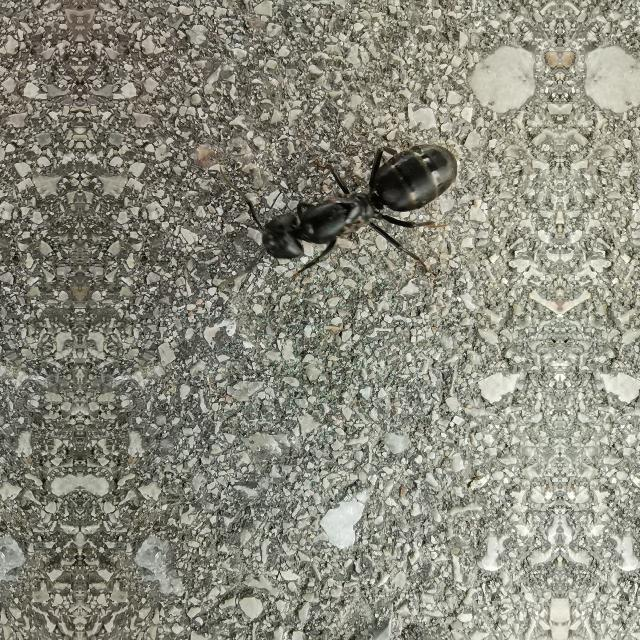Camponotus: (225, 98, 472, 296)
